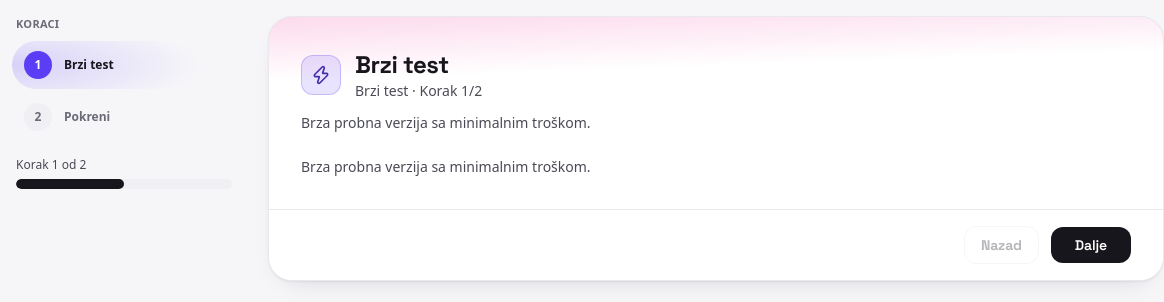
Test: QuickTestPage › a 402 from /api/jobs surfaces as an alert instead of the wizard hanging
The image size is (1164, 302).
Click the button "Dalje".
click(1091, 245)  # box [1051, 227, 1131, 263]
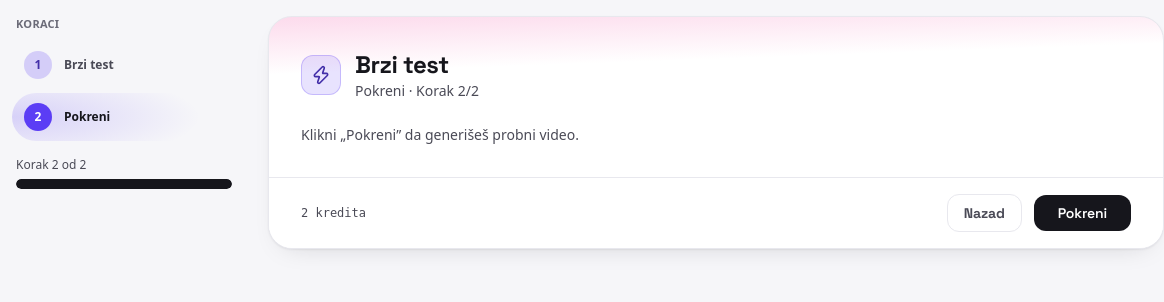
Click the button "Pokreni".
click(1082, 213)  # box [1034, 195, 1131, 231]
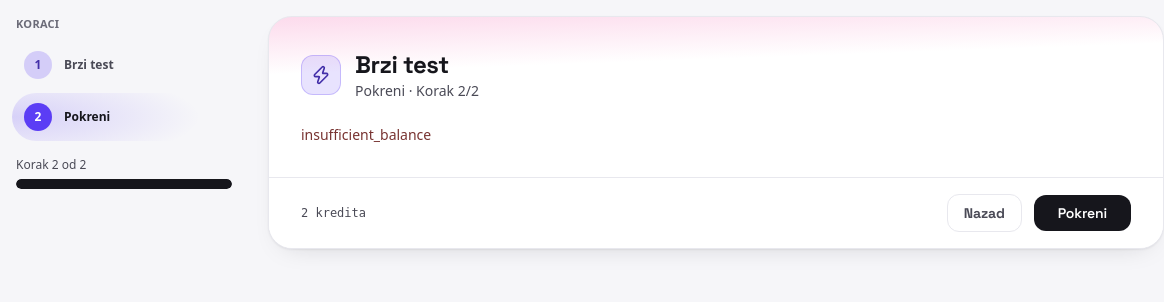
Expected: the message "insufficient_balance" is shown, [301, 125, 431, 144]
